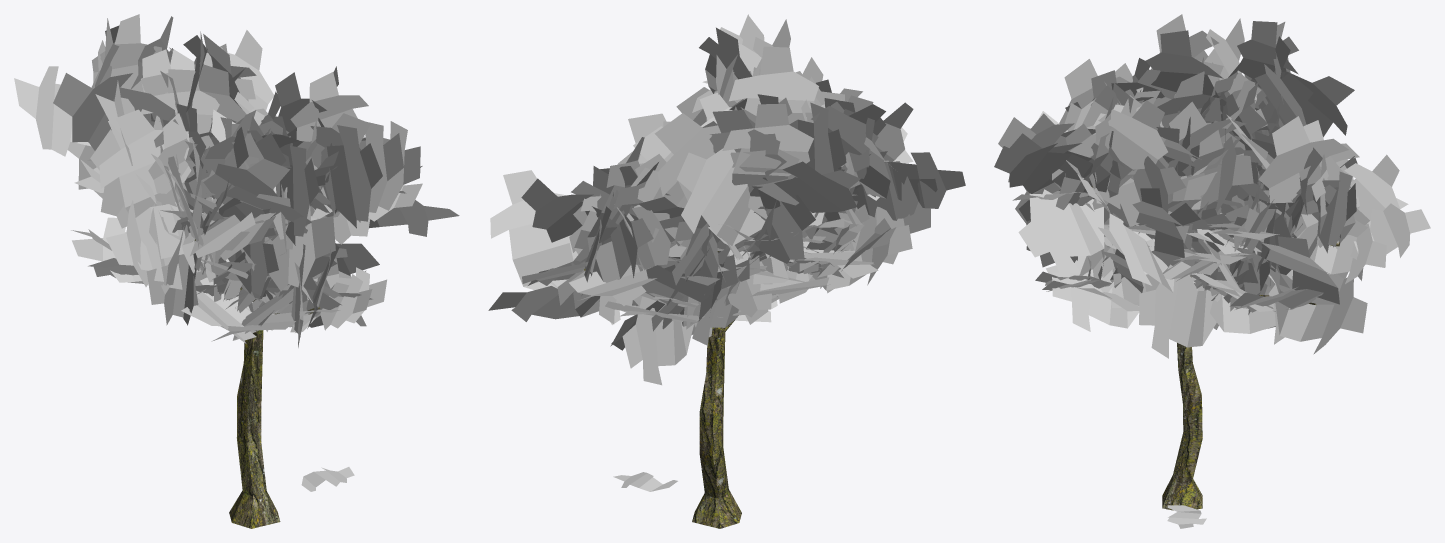
File: tree.fbx
3 views of the same model, side by side, from view 1: azimuth 30°, elevation 25°; view 2: azimuth 150°, elevation 25°; view 3: azimuth 270°, elevation 25° (orthographic). The views are drawn at different scales.
Parts seen in each view (by area): view 1: Cube, Cube|Tree Branch|Dupli|99, Cube|Tree Branch|Dupli|188, Cube|Tree Branch|Dupli|138, Cube|Tree Branch|Dupli|96, Cube|Tree Branch|Dupli|117, Cube|Tree Branch|Dupli|57, Cube|Tree Branch|Dupli|165, Cube|Tree Branch|Dupli|95, Cube|Tree Branch|Dupli|142, Cube|Tree Branch|Dupli|113, Cube|Tree Branch|Dupli|190 (+43 smaller); view 2: Cube, Cube|Tree Branch|Dupli|56, Cube|Tree Branch|Dupli|74, Cube|Tree Branch|Dupli|52, Cube|Tree Branch|Dupli|57, Cube|Tree Branch|Dupli|167, Cube|Tree Branch|Dupli|217, Cube|Tree Branch|Dupli|10, Cube|Tree Branch|Dupli|44, Cube|Tree Branch|Dupli|40, Cube|Tree Branch|Dupli|34, Cube|Tree Branch|Dupli|96 (+39 smaller); view 3: Cube|Tree Branch|Dupli|141, Cube|Tree Branch|Dupli|64, Cube|Tree Branch|Dupli|23, Cube, Cube|Tree Branch|Dupli|148, Cube|Tree Branch|Dupli|71, Cube|Tree Branch|Dupli|149, Cube|Tree Branch|Dupli|167, Cube|Tree Branch|Dupli|74, Cube|Tree Branch|Dupli|196, Cube|Tree Branch|Dupli|37, Cube|Tree Branch|Dupli|229 (+46 smaller).
Boxes of the visible parts, bbox=[...] form: Cube: bbox=[195, 239, 319, 528]; Cube|Tree Branch|Dupli|99: bbox=[99, 109, 191, 217]; Cube|Tree Branch|Dupli|188: bbox=[53, 73, 175, 150]; Cube|Tree Branch|Dupli|138: bbox=[317, 125, 382, 228]; Cube|Tree Branch|Dupli|96: bbox=[106, 200, 200, 286]; Cube|Tree Branch|Dupli|117: bbox=[224, 205, 335, 299]; Cube|Tree Branch|Dupli|57: bbox=[14, 66, 90, 156]; Cube|Tree Branch|Dupli|165: bbox=[290, 72, 368, 141]; Cube|Tree Branch|Dupli|95: bbox=[202, 159, 289, 221]; Cube|Tree Branch|Dupli|142: bbox=[276, 145, 319, 245]; Cube|Tree Branch|Dupli|113: bbox=[146, 226, 221, 325]; Cube|Tree Branch|Dupli|190: bbox=[141, 69, 219, 134]; Cube: bbox=[584, 251, 741, 528]; Cube|Tree Branch|Dupli|56: bbox=[676, 148, 765, 246]; Cube|Tree Branch|Dupli|74: bbox=[490, 170, 573, 290]; Cube|Tree Branch|Dupli|52: bbox=[722, 104, 813, 218]; Cube|Tree Branch|Dupli|57: bbox=[757, 161, 860, 212]; Cube|Tree Branch|Dupli|167: bbox=[729, 46, 818, 115]; Cube|Tree Branch|Dupli|217: bbox=[622, 296, 693, 385]; Cube|Tree Branch|Dupli|10: bbox=[727, 195, 815, 281]; Cube|Tree Branch|Dupli|44: bbox=[654, 113, 720, 201]; Cube|Tree Branch|Dupli|40: bbox=[521, 178, 601, 242]; Cube|Tree Branch|Dupli|34: bbox=[593, 213, 653, 282]; Cube|Tree Branch|Dupli|96: bbox=[884, 152, 965, 208]; Cube|Tree Branch|Dupli|141: bbox=[1018, 189, 1104, 273]; Cube|Tree Branch|Dupli|64: bbox=[1139, 264, 1216, 358]; Cube|Tree Branch|Dupli|23: bbox=[1258, 116, 1356, 249]; Cube: bbox=[1092, 186, 1339, 510]; Cube|Tree Branch|Dupli|148: bbox=[1090, 100, 1167, 209]; Cube|Tree Branch|Dupli|71: bbox=[1275, 273, 1367, 354]; Cube|Tree Branch|Dupli|149: bbox=[994, 143, 1096, 196]; Cube|Tree Branch|Dupli|167: bbox=[1145, 30, 1223, 123]; Cube|Tree Branch|Dupli|74: bbox=[1261, 236, 1339, 304]; Cube|Tree Branch|Dupli|196: bbox=[1052, 256, 1139, 331]; Cube|Tree Branch|Dupli|37: bbox=[1310, 223, 1386, 283]; Cube|Tree Branch|Dupli|229: bbox=[1098, 213, 1174, 292].
Bounding box in the file's own units: 1964 × 2595 × 2287.
